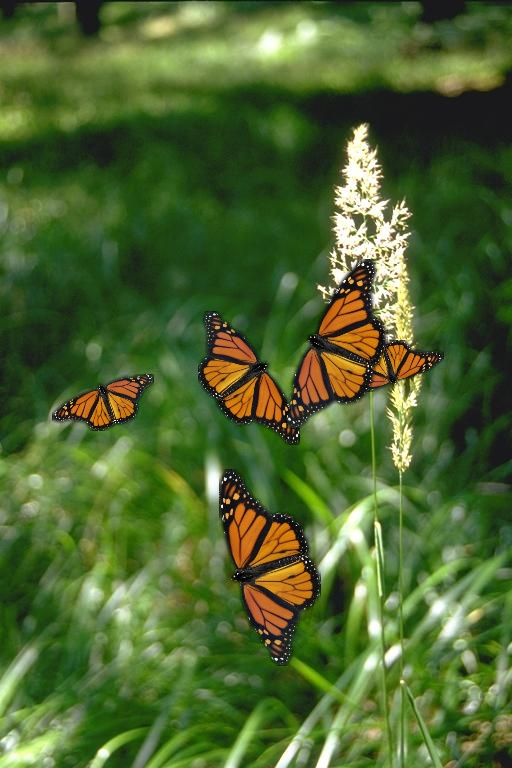danaus_plexippus: (219, 469, 321, 666), (286, 259, 388, 429), (198, 311, 300, 445), (52, 374, 154, 431), (342, 340, 444, 392)
